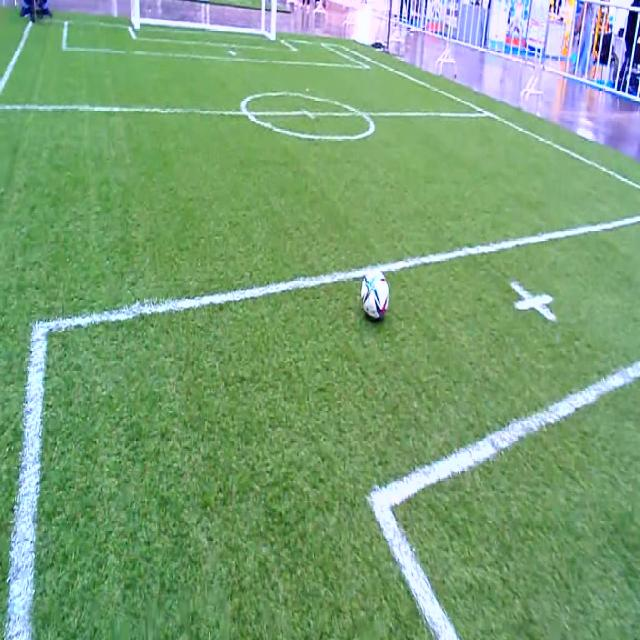ball: (360, 268, 390, 320)
